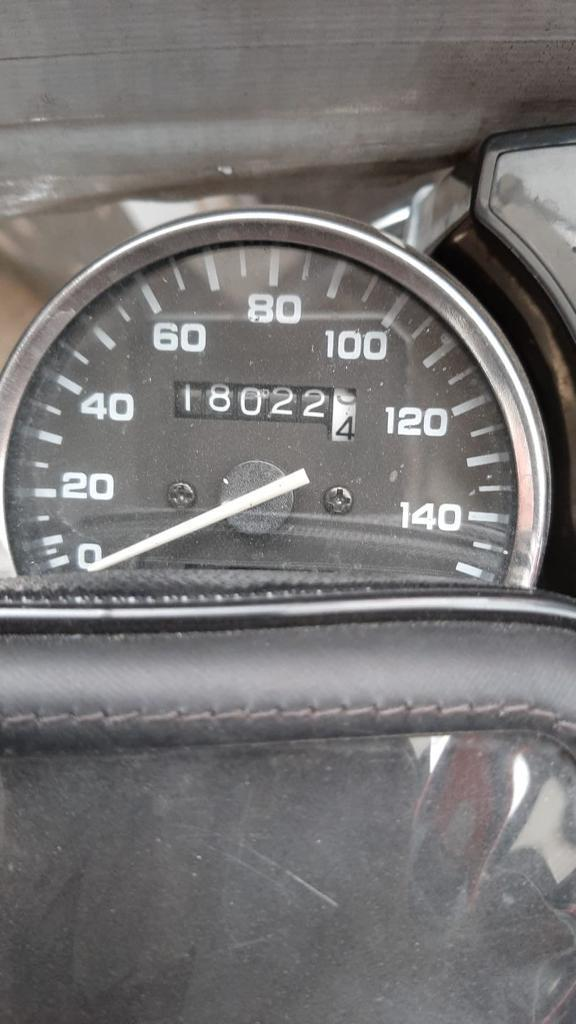0: (239, 387, 263, 417)
1: (181, 382, 197, 418)
2: (301, 387, 327, 420), (268, 386, 294, 417)
3: (336, 383, 358, 407)
4: (334, 413, 355, 441)
8: (207, 383, 232, 415)
odometer: (171, 379, 358, 443)
